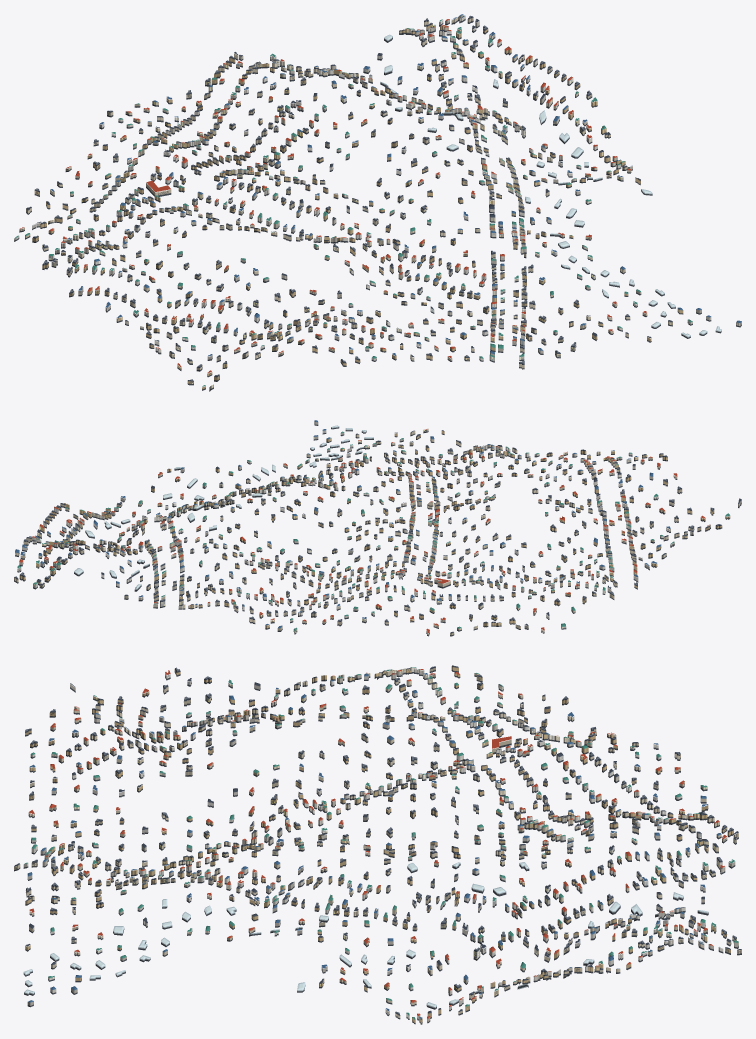
File: osm_buildings_T_E01_S01.glb
The picture shows the model from 3 angles, top to bottom: view 1: azimuth 30°, elevation 25°; view 2: azimuth 150°, elevation 25°; view 3: azimuth 270°, elevation 25°; orthographic projection. The views are drawn at different scales.
Parts seen in each view (by area): view 1: OSM_T_E01_S01_foundation, OSM_T_E01_S01_wall_cream_stucco, OSM_T_E01_S01_wall_french_ochre, OSM_T_E01_S01_roof_mansard_slate, OSM_T_E01_S01_wall_pastel_sand, OSM_T_E01_S01_wall_warm_white, OSM_T_E01_S01_roof_terracotta, OSM_T_E01_S01_roof_mansard_deck, OSM_T_E01_S01_roof_alpine_blue, OSM_T_E01_S01_roof_mint_metal, OSM_T_E01_S01_greenhouse_blend, OSM_T_E01_S01_balcony_railing; view 2: OSM_T_E01_S01_foundation, OSM_T_E01_S01_wall_cream_stucco, OSM_T_E01_S01_wall_french_ochre, OSM_T_E01_S01_roof_mansard_slate, OSM_T_E01_S01_wall_pastel_sand, OSM_T_E01_S01_wall_warm_white, OSM_T_E01_S01_roof_terracotta, OSM_T_E01_S01_roof_mansard_deck, OSM_T_E01_S01_roof_alpine_blue, OSM_T_E01_S01_roof_mint_metal, OSM_T_E01_S01_greenhouse_blend; view 3: OSM_T_E01_S01_foundation, OSM_T_E01_S01_wall_cream_stucco, OSM_T_E01_S01_wall_french_ochre, OSM_T_E01_S01_roof_mansard_slate, OSM_T_E01_S01_wall_pastel_sand, OSM_T_E01_S01_wall_warm_white, OSM_T_E01_S01_roof_terracotta, OSM_T_E01_S01_roof_mansard_deck, OSM_T_E01_S01_roof_mint_metal, OSM_T_E01_S01_roof_alpine_blue, OSM_T_E01_S01_greenhouse_blend.
Part boxes in pixels (left/top/right/bottom): OSM_T_E01_S01_foundation: left=14, top=19, right=741, bottom=391; OSM_T_E01_S01_wall_cream_stucco: left=19, top=14, right=672, bottom=369; OSM_T_E01_S01_wall_french_ochre: left=32, top=24, right=683, bottom=389; OSM_T_E01_S01_roof_mansard_slate: left=26, top=16, right=672, bottom=381; OSM_T_E01_S01_wall_pastel_sand: left=36, top=19, right=741, bottom=389; OSM_T_E01_S01_wall_warm_white: left=14, top=16, right=711, bottom=361; OSM_T_E01_S01_roof_terracotta: left=20, top=19, right=646, bottom=373; OSM_T_E01_S01_roof_mansard_deck: left=33, top=15, right=629, bottom=380; OSM_T_E01_S01_roof_alpine_blue: left=50, top=14, right=741, bottom=356; OSM_T_E01_S01_roof_mint_metal: left=14, top=19, right=692, bottom=386; OSM_T_E01_S01_greenhouse_blend: left=342, top=34, right=721, bottom=337; OSM_T_E01_S01_balcony_railing: left=20, top=42, right=610, bottom=382; OSM_T_E01_S01_foundation: left=14, top=424, right=741, bottom=636; OSM_T_E01_S01_wall_cream_stucco: left=14, top=429, right=701, bottom=635; OSM_T_E01_S01_wall_french_ochre: left=19, top=431, right=730, bottom=628; OSM_T_E01_S01_roof_mansard_slate: left=14, top=430, right=741, bottom=633; OSM_T_E01_S01_wall_pastel_sand: left=19, top=421, right=741, bottom=628; OSM_T_E01_S01_wall_warm_white: left=17, top=430, right=710, bottom=628; OSM_T_E01_S01_roof_terracotta: left=19, top=429, right=709, bottom=632; OSM_T_E01_S01_roof_mansard_deck: left=15, top=434, right=720, bottom=632; OSM_T_E01_S01_roof_alpine_blue: left=15, top=420, right=670, bottom=628; OSM_T_E01_S01_roof_mint_metal: left=17, top=431, right=729, bottom=631; OSM_T_E01_S01_greenhouse_blend: left=74, top=425, right=373, bottom=590; OSM_T_E01_S01_foundation: left=14, top=670, right=741, bottom=1024; OSM_T_E01_S01_wall_cream_stucco: left=14, top=667, right=741, bottom=1021; OSM_T_E01_S01_wall_french_ochre: left=25, top=666, right=733, bottom=1023; OSM_T_E01_S01_roof_mansard_slate: left=14, top=665, right=741, bottom=1015; OSM_T_E01_S01_wall_pastel_sand: left=27, top=668, right=736, bottom=1019; OSM_T_E01_S01_wall_warm_white: left=23, top=667, right=738, bottom=1018; OSM_T_E01_S01_roof_terracotta: left=29, top=669, right=726, bottom=1018; OSM_T_E01_S01_roof_mansard_deck: left=15, top=665, right=735, bottom=1014; OSM_T_E01_S01_roof_mint_metal: left=24, top=667, right=738, bottom=1019; OSM_T_E01_S01_roof_alpine_blue: left=27, top=673, right=721, bottom=1019; OSM_T_E01_S01_greenhouse_blend: left=23, top=862, right=708, bottom=1007.
Bounding box in the file's own units: 1986 × 294 × 1951.
